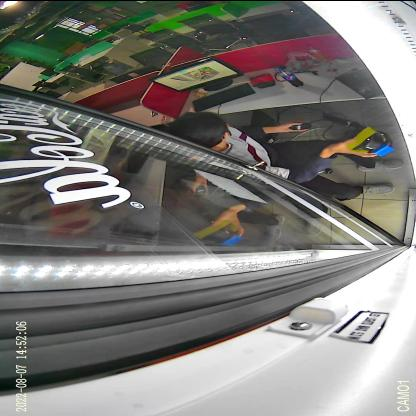blue: (366, 132, 394, 156)
yellow: (344, 126, 387, 152)
